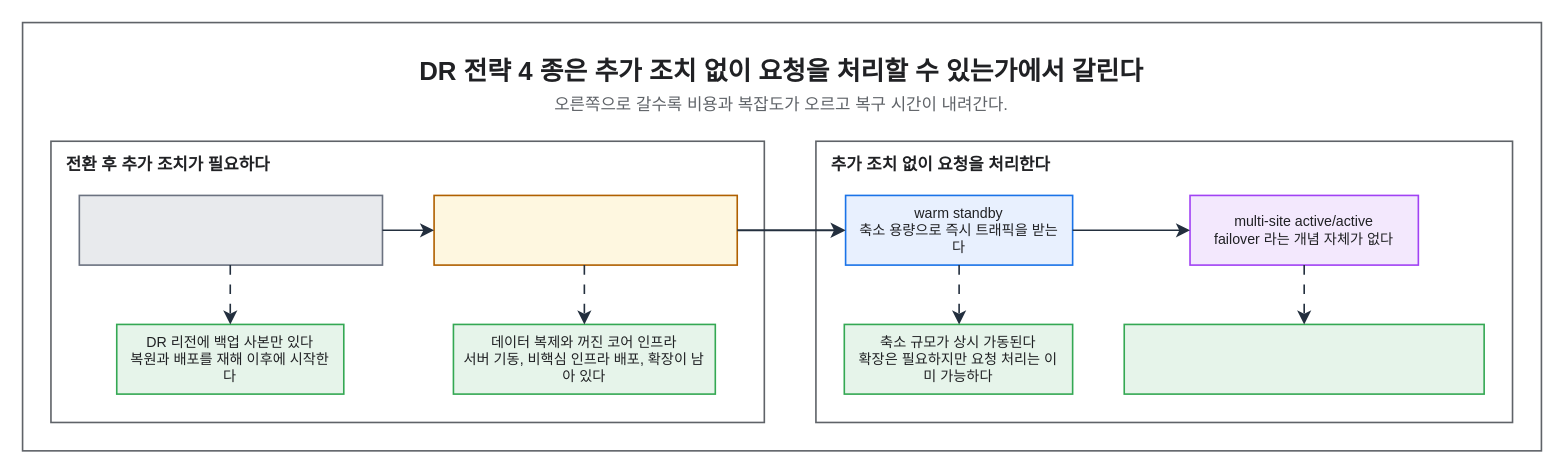
This 1565x475 diagram has some shape labels left out. The shapes that lost their labels are listed below. From the top down, each one's centre as x and y in pixels, then its label:
[230,229]: backup and restore 복원 자체가 control plane operation 이다
[585,229]: pilot light Elastic Disaster Recovery 가 쓰는 전략
[1303,358]: 프로덕션 전량이 상시 가동된다 같은 규모를 active/passive 로 두면 hot standby 다
